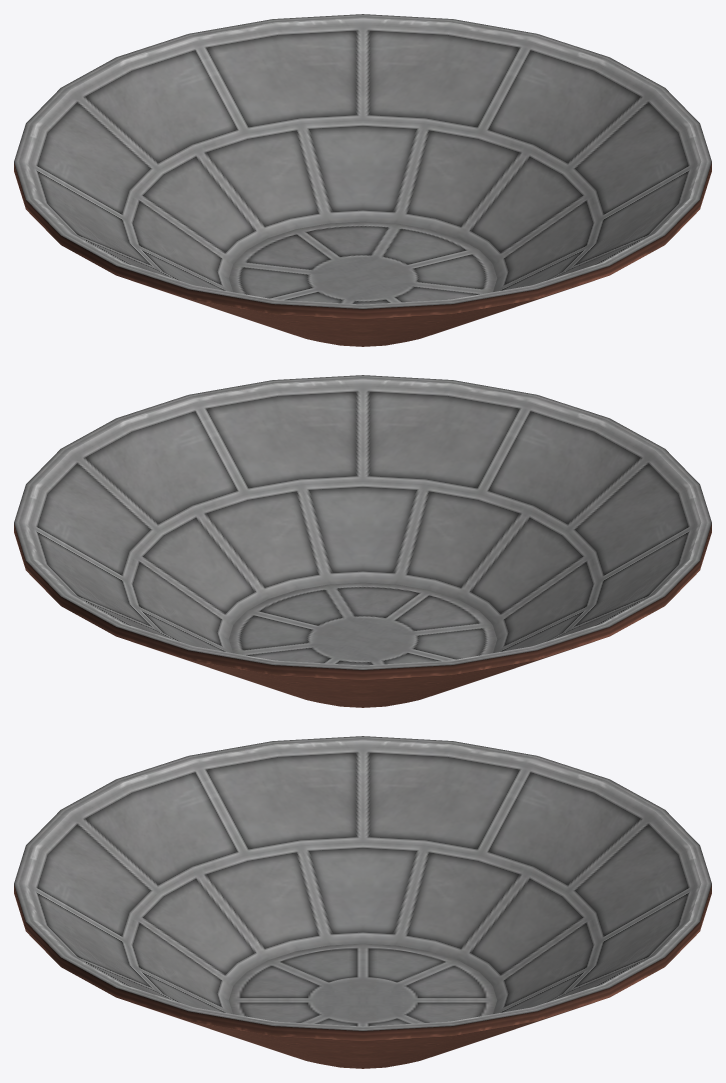
File: 4mv_bucket_heatshield_s0_1.obj
The picture shows the model from 3 angles, top to bottom: view 1: azimuth 30°, elevation 25°; view 2: azimuth 150°, elevation 25°; view 3: azimuth 270°, elevation 25°; orthographic projection.
Visible parts, largest first — view 1: mesh3; view 2: mesh3; view 3: mesh3.
Boxes of the visible parts, x1,y1,x2,y2 form: mesh3: (14, 14, 711, 346); mesh3: (14, 375, 711, 707); mesh3: (14, 736, 711, 1068).
Size of the model in its own units: 1.62 by 0.425 by 1.62.
Materials: 1 (1 with a texture image).
